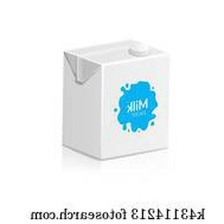carton: (52, 33, 173, 166)
